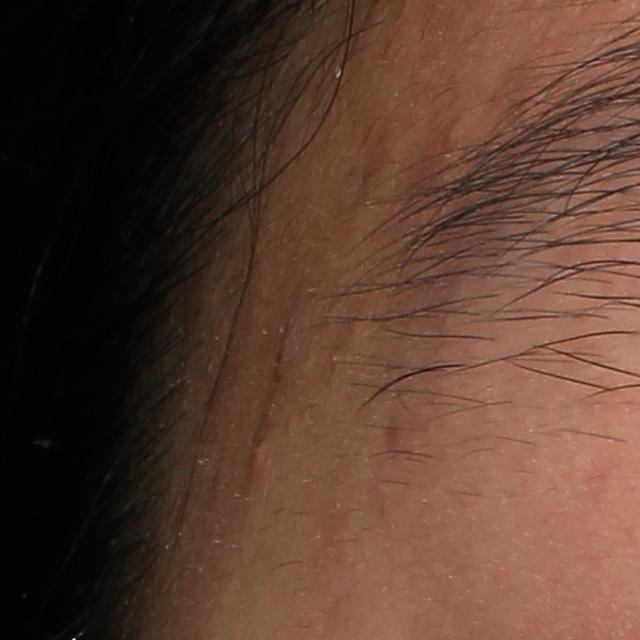papule: (240, 430, 270, 475), (269, 333, 293, 378)
